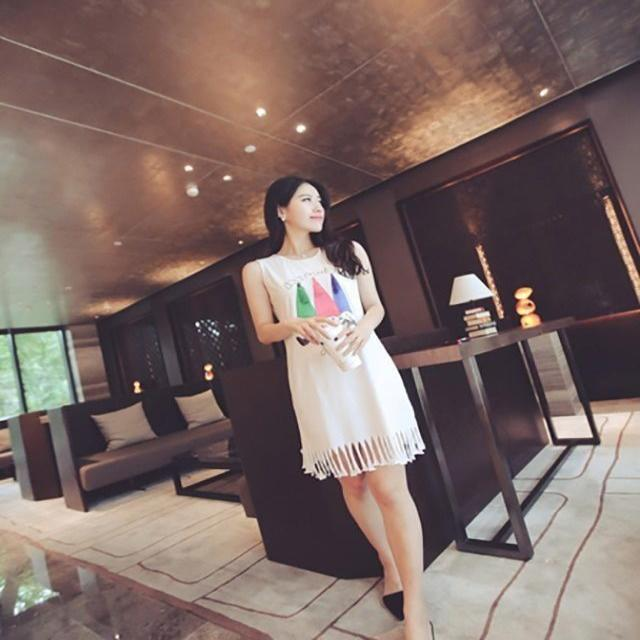vest dress: (259, 243, 423, 474)
